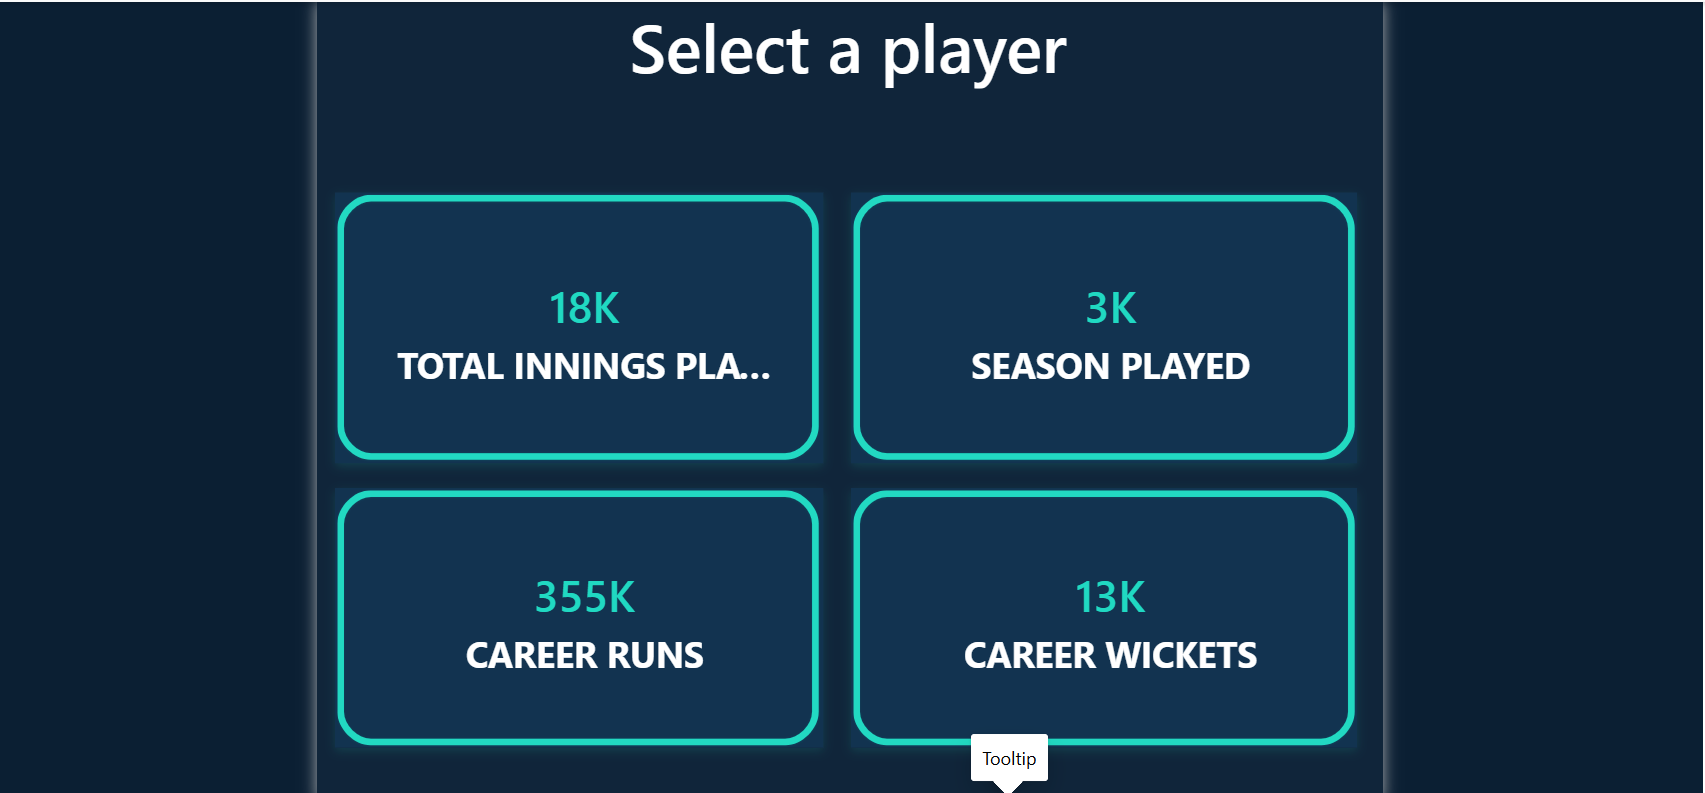

Layout of this report page (visuals, bound fields, positions):
{"tool":"powerbi","page":{"name":"Tooltip","canvas":[320,240],"ordinal":4},"visuals":[{"type":"cardVisual","fields":{"Data":["DimPlayer.Selected Player"]},"box":[0,0,319.8,26],"z":0},{"type":"cardVisual","fields":{"Data":["Sum(ipl_batting_career_progression.innings)"]},"box":[5.2,57.3,146.9,81.2],"z":2000},{"type":"cardVisual","fields":{"Data":["Sum(DimPlayer.career_runs)"]},"box":[5.2,145.8,146.9,78.1],"z":3000},{"type":"cardVisual","fields":{"Data":["Sum(DimPlayer.career_wickets)"]},"box":[160.4,145.8,152.1,78.1],"z":4000},{"type":"cardVisual","fields":{"Data":["Sum(DimPlayer.seasons_played)"]},"box":[160.4,57.3,152.1,81.2],"z":5000}]}

Visuals, with their boxes on the page's 320x240 design canvas (x1, y1, x2, y2). These are canvas units, not pixel positions in the 1705x793 screenshot, which may show the page scaled, cropped or inside an application window:
cardVisual - DimPlayer.Selected Player: [left=0, top=0, right=320, bottom=26]
cardVisual - Sum(ipl_batting_career_progression.innings): [left=5, top=57, right=152, bottom=138]
cardVisual - Sum(DimPlayer.career_runs): [left=5, top=146, right=152, bottom=224]
cardVisual - Sum(DimPlayer.career_wickets): [left=160, top=146, right=312, bottom=224]
cardVisual - Sum(DimPlayer.seasons_played): [left=160, top=57, right=312, bottom=138]
